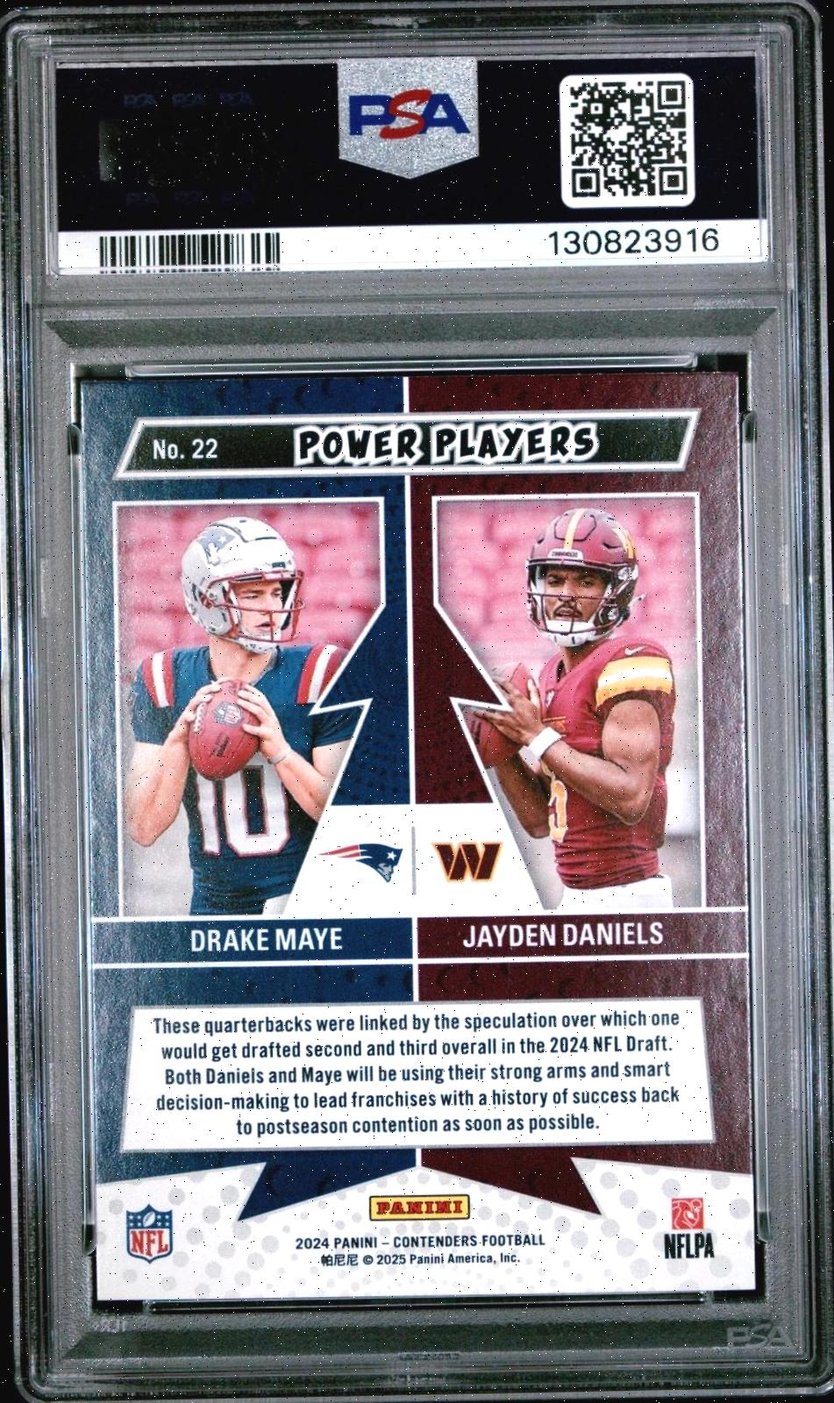card-2UtV: (79, 370, 755, 1301)
